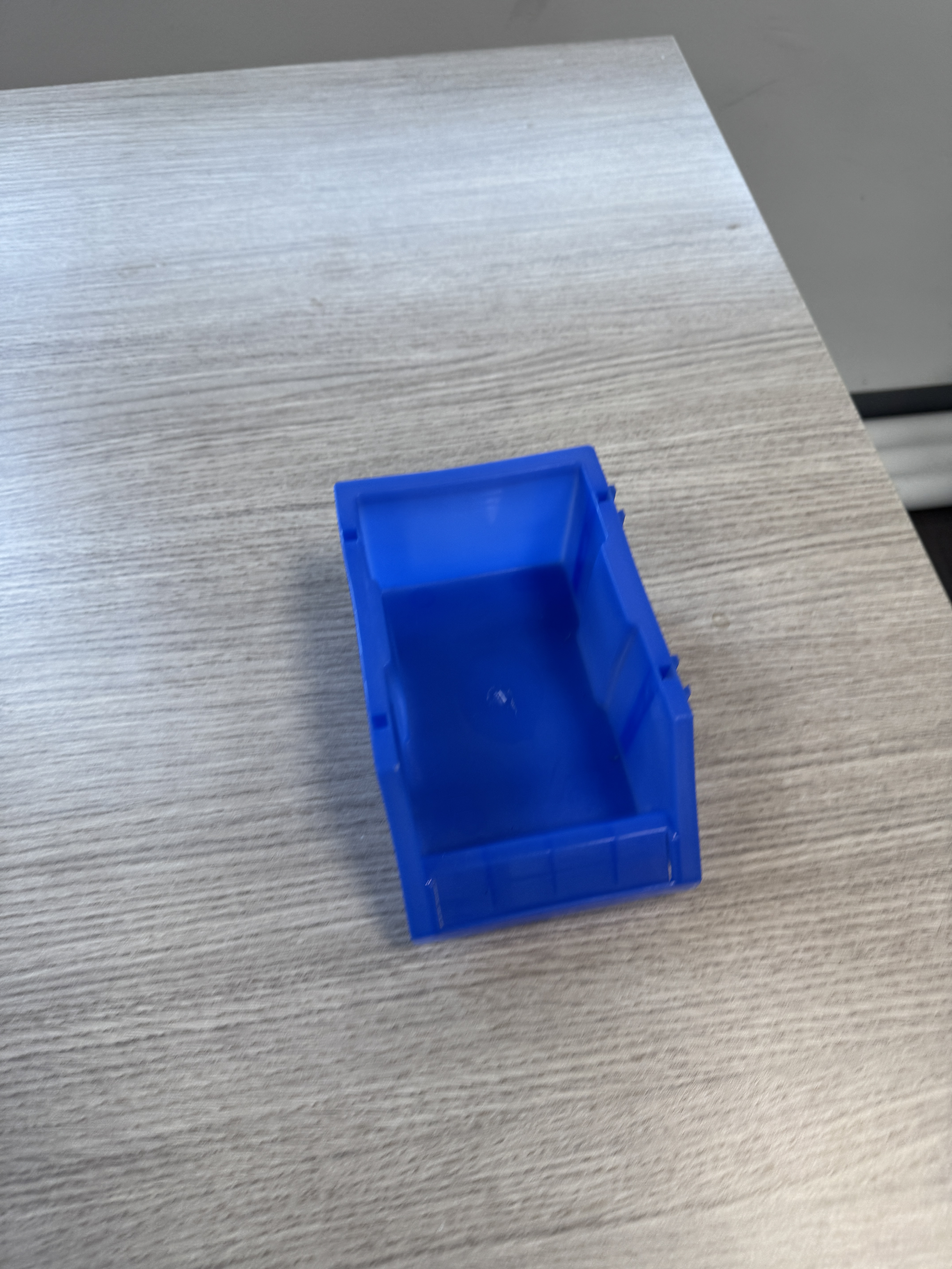Bin Boundary: (356, 459, 684, 855)
